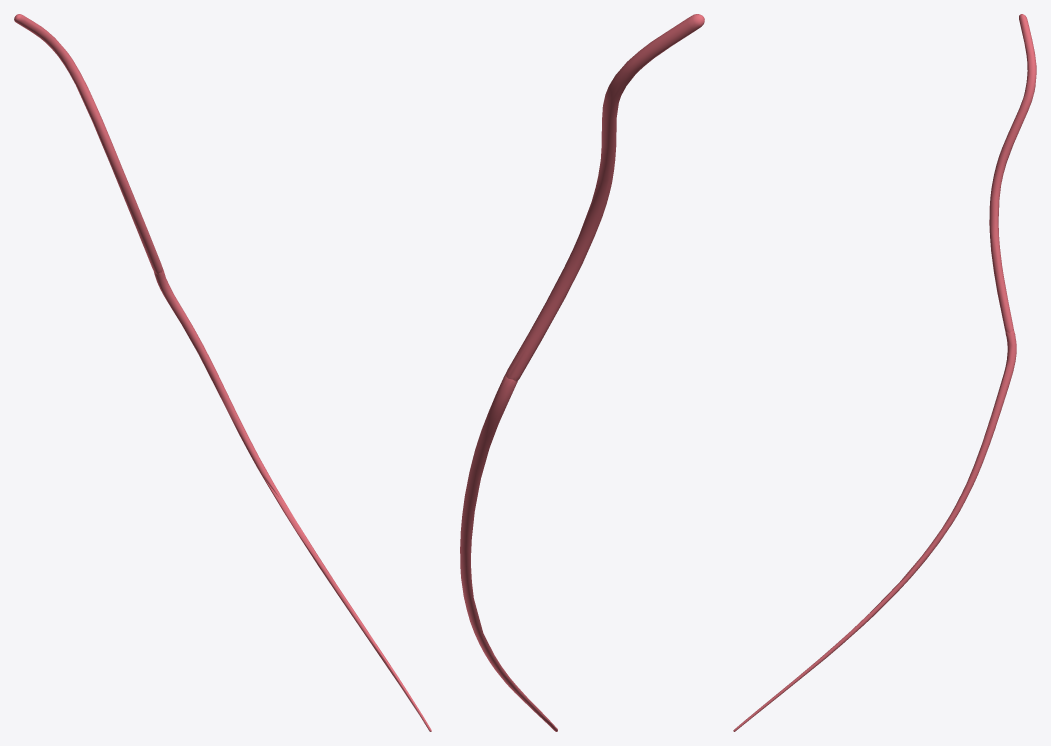
The model's file is fma22778_cx44.glb.
The picture shows the model from 3 angles, left to right: view 1: azimuth 30°, elevation 25°; view 2: azimuth 150°, elevation 25°; view 3: azimuth 270°, elevation 25°; orthographic projection. The views are drawn at different scales.
Parts seen in each view (by area): view 1: FMA22778_CX44; view 2: FMA22778_CX44; view 3: FMA22778_CX44.
Part boxes in pixels (x1,y1,x2,y2): FMA22778_CX44: [14, 14, 431, 731]; FMA22778_CX44: [460, 14, 704, 731]; FMA22778_CX44: [733, 14, 1036, 731].
Bounding box in the file's own units: 0.0431 × 0.1055 × 0.048.
